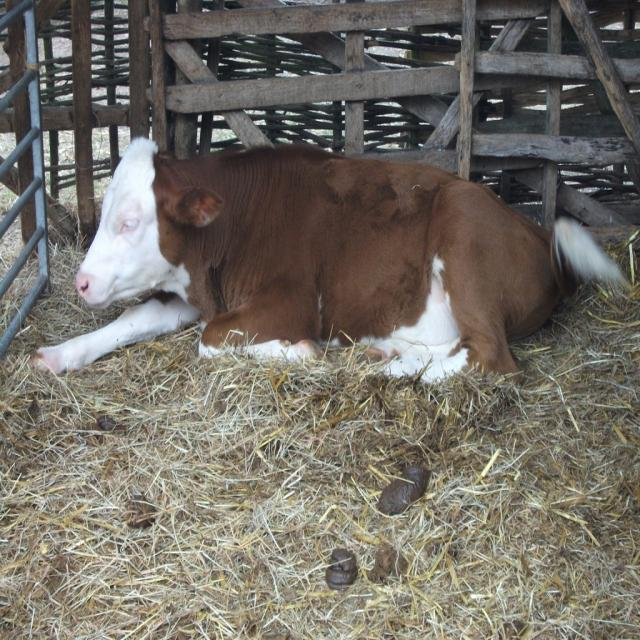Cattle: (27, 134, 633, 385)
